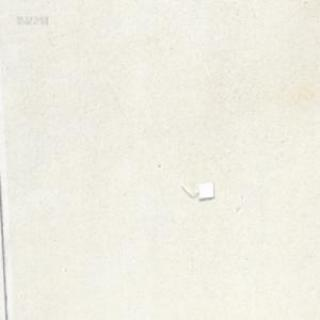LuggageTagtrack_idkeyframe: (179, 179, 214, 198)
